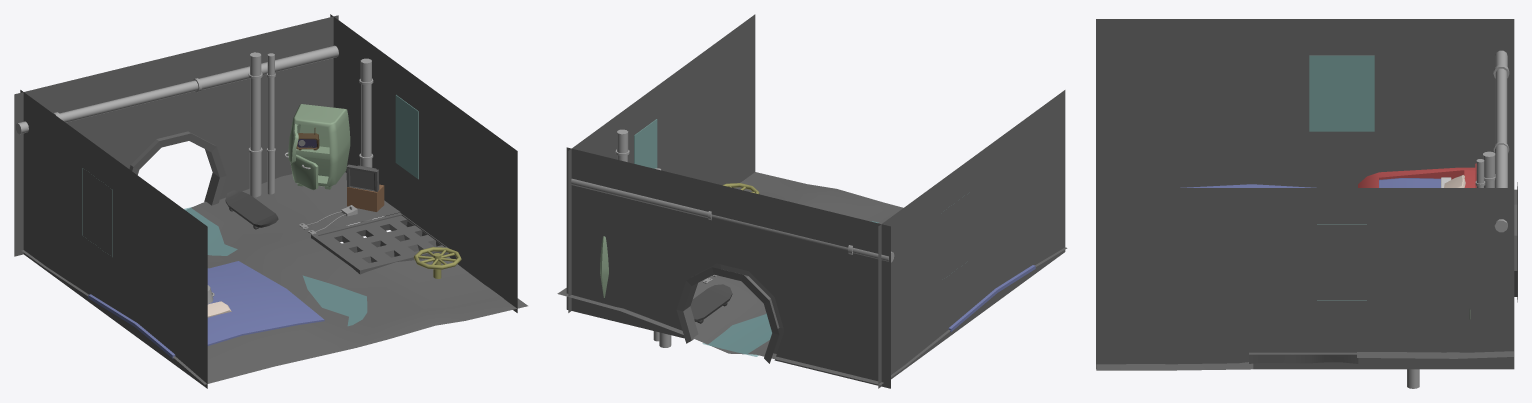
Rendered from Luther_Home_UVED.fbx.
3 views of the same model, side by side, from view 1: azimuth 30°, elevation 25°; view 2: azimuth 150°, elevation 25°; view 3: azimuth 270°, elevation 25° (orthographic). The views are drawn at different scales.
Parts seen in each view (by area): view 1: Wall_02, Floor, Wall_03, Wall_01, Carpet, Grate, Fridge, Pipe1, Pipe_Entrance, PIpe1, Poster1, Water2 (+7 smaller); view 2: Wall_03, Wall_02, Wall_01, Floor, Pipe_Entrance, Pipe1, Water1, Skateboard1, Poster1, Carpet; view 3: Wall_01, Wall_02, Poster2, Floor, Car_bed, Pipe1, Grate, Pipe_Entrance, PIpe1.
Boxes of the visible parts, <box> form: Wall_02: <box>20,90,207,388</box>; Floor: <box>21,172,527,384</box>; Wall_03: <box>14,15,338,256</box>; Wall_01: <box>330,14,517,312</box>; Carpet: <box>88,261,324,358</box>; Grate: <box>311,212,448,274</box>; Fridge: <box>284,104,350,190</box>; Pipe1: <box>16,45,338,134</box>; Pipe_Entrance: <box>129,131,226,205</box>; PIpe1: <box>248,52,262,197</box>; Poster1: <box>395,95,418,179</box>; Water2: <box>303,275,367,325</box>; Wall_03: <box>566,147,890,388</box>; Wall_02: <box>878,90,1065,388</box>; Wall_01: <box>568,14,755,312</box>; Floor: <box>557,172,1067,384</box>; Pipe_Entrance: <box>676,263,784,363</box>; Pipe1: <box>571,178,894,262</box>; Water1: <box>702,313,771,356</box>; Skateboard1: <box>690,284,732,323</box>; Poster1: <box>634,119,657,168</box>; Carpet: <box>948,265,1035,331</box>; Wall_01: <box>1096,188,1514,369</box>; Wall_02: <box>1096,19,1514,187</box>; Poster2: <box>1309,55,1374,131</box>; Floor: <box>1096,351,1513,370</box>; Car_bed: <box>1358,163,1476,187</box>; Pipe1: <box>1493,50,1509,232</box>; Grate: <box>1249,352,1358,363</box>; Pipe_Entrance: <box>1514,182,1517,302</box>; PIpe1: <box>1483,151,1495,187</box>.
Size of the model in its own units: 17.41 by 9.15 by 17.23.
